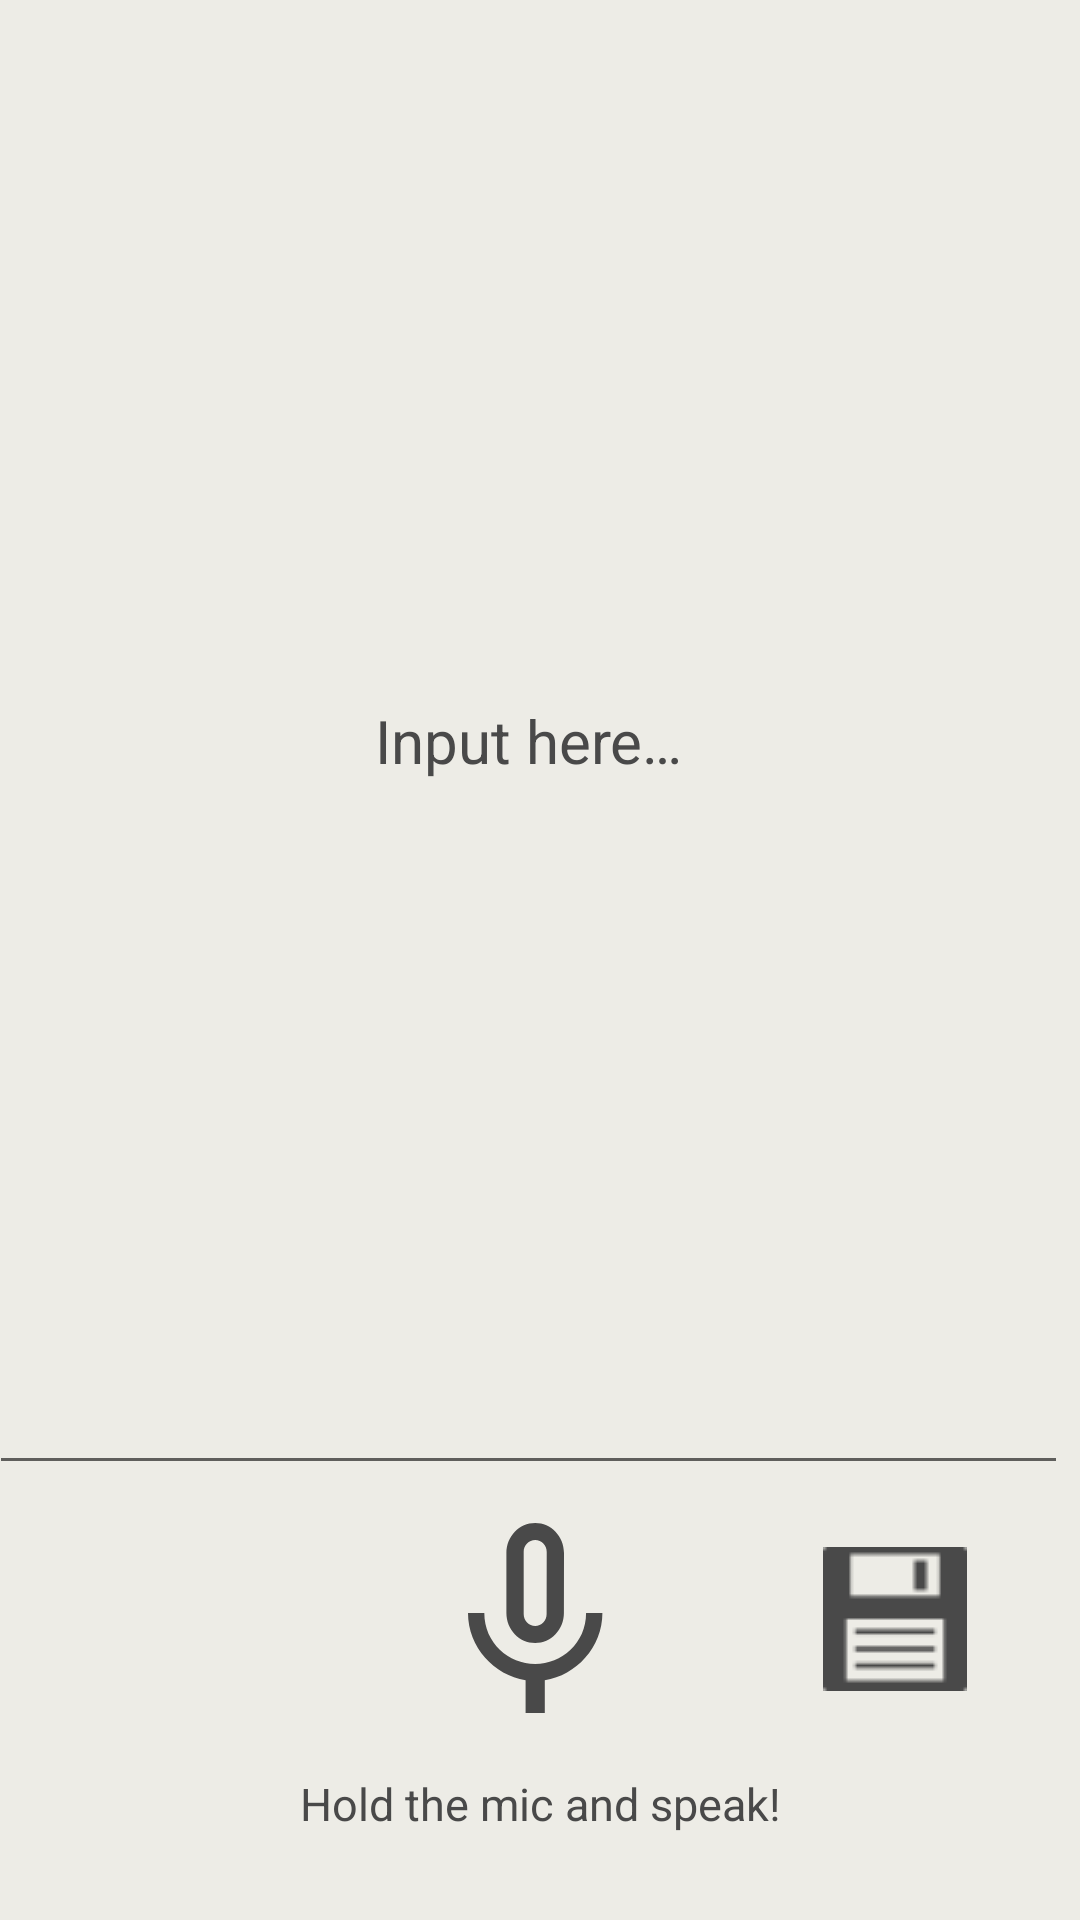

Named icons in this screenshot (1080×1920) and their centers, point (x, y):
microphone: point (535, 1618)
Save: point (895, 1619)
